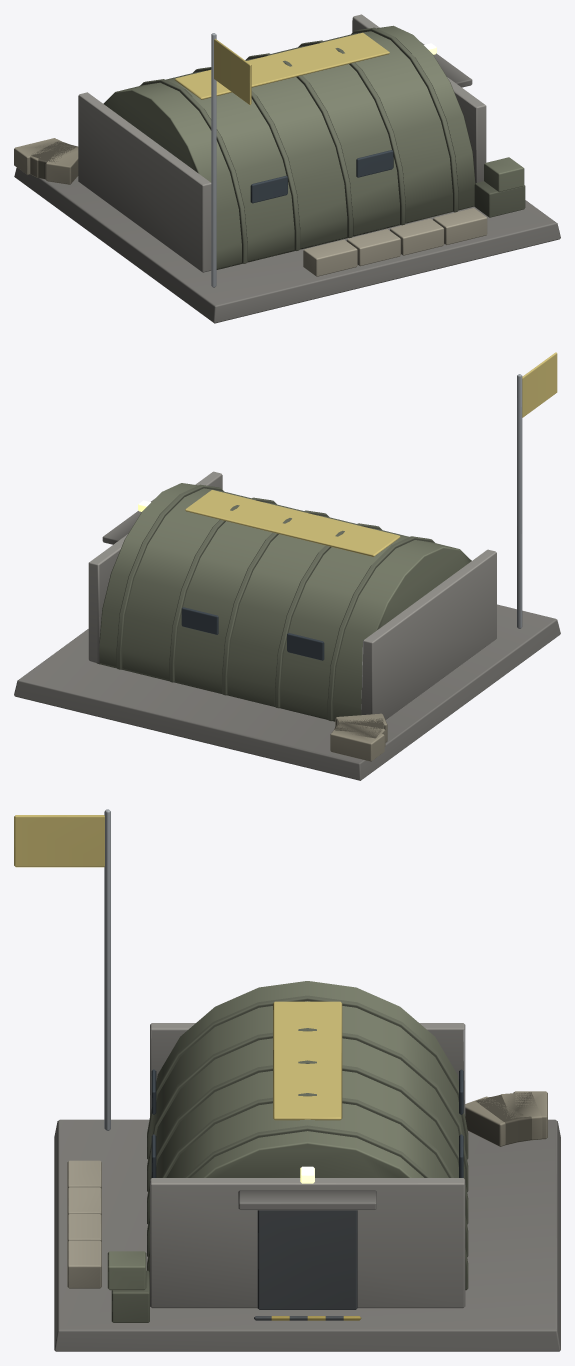
The model's file is barracks.glb.
3 renders of one model, top to bottom at view 1: azimuth 30°, elevation 25°; view 2: azimuth 150°, elevation 25°; view 3: azimuth 270°, elevation 25°, orthographic. The views are drawn at different scales.
Parts seen in each view (by area): view 1: Body; view 2: Body; view 3: Body.
Boxes of the visible parts, x1,y1,x2,y2 form: Body: [14, 14, 560, 323]; Body: [14, 352, 560, 780]; Body: [14, 809, 560, 1351].
Bounding box in the file's own units: 6.7 × 4.9 × 7.12.
